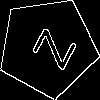Z: (22, 22, 77, 71)
